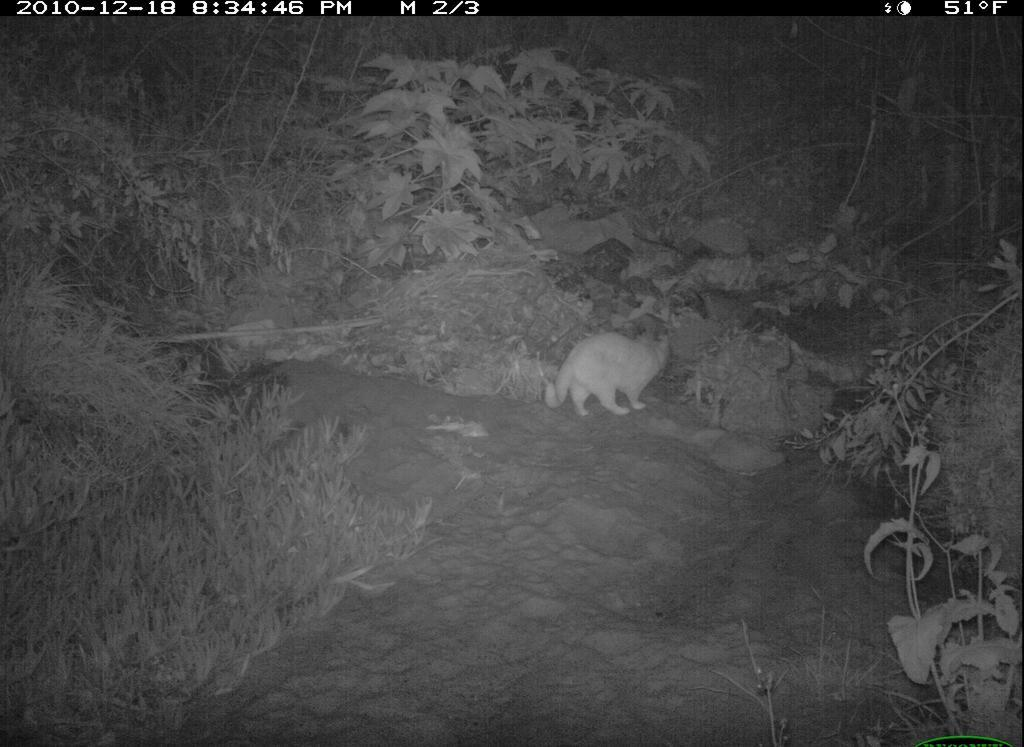cat: (538, 319, 676, 419)
